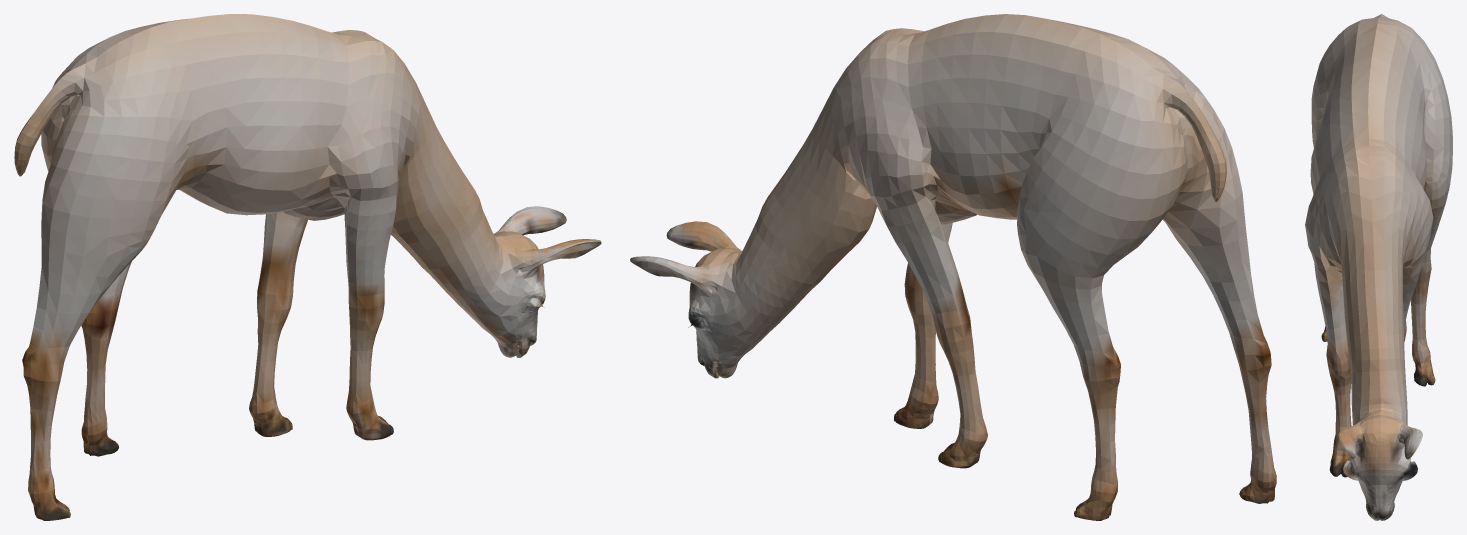
The model's file is llama.gt.glb.
3 views of the same model, side by side, from view 1: azimuth 30°, elevation 25°; view 2: azimuth 150°, elevation 25°; view 3: azimuth 270°, elevation 25° (orthographic). The views are drawn at different scales.
Parts seen in each view (by area): view 1: root; view 2: root; view 3: root.
Boxes of the visible parts, left/top/right/bottom form: root: left=14, top=14, right=601, bottom=520; root: left=630, top=14, right=1276, bottom=520; root: left=1305, top=14, right=1452, bottom=520.
Size of the model in its own units: 0.684 by 0.4982 by 0.1819.
1 material, 1 textured.
